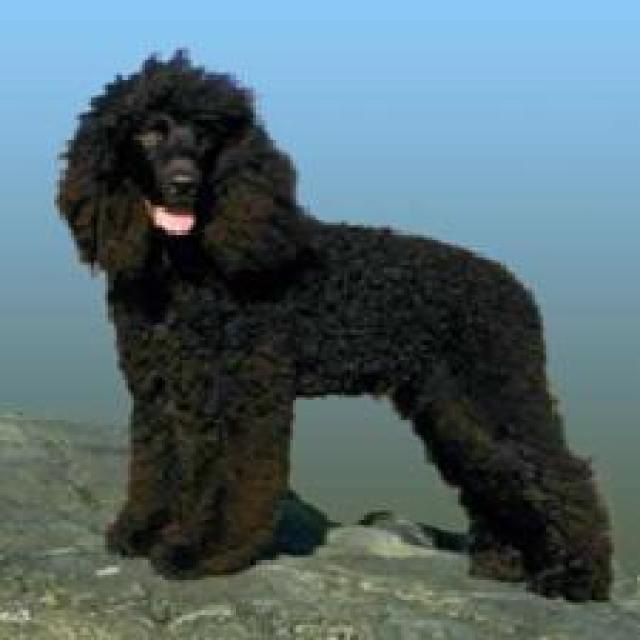dog: (48, 41, 628, 608)
